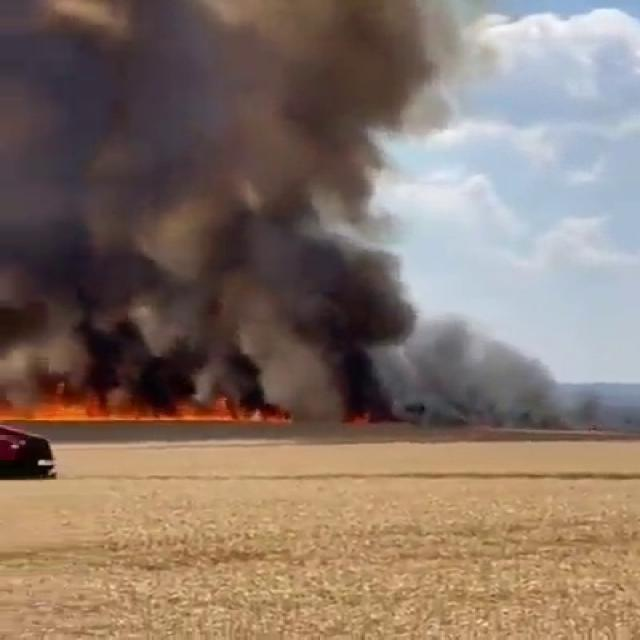Fire: (0, 394, 293, 424)
